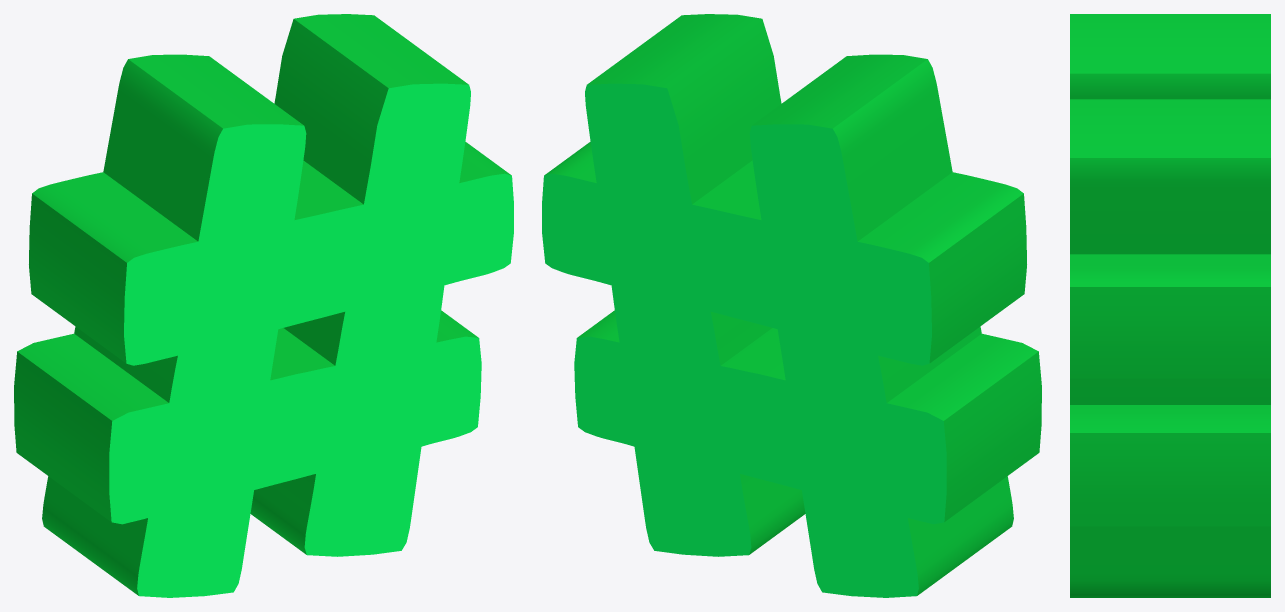
3 views of the same model, side by side, from view 1: azimuth 30°, elevation 25°; view 2: azimuth 150°, elevation 25°; view 3: azimuth 270°, elevation 25° (orthographic). The views are drawn at different scales.
Visible parts, largest first — view 1: #_Zyzol_Green; view 2: #_Zyzol_Green; view 3: #_Zyzol_Green.
Part boxes in pixels (x1,y1,x2,y2): #_Zyzol_Green: (14, 14, 513, 597); #_Zyzol_Green: (542, 14, 1041, 597); #_Zyzol_Green: (1070, 14, 1270, 597).
Size of what is drawn, in the model's own units: 0.1106 by 0.1218 by 0.045.
2 materials, 2 textured.
